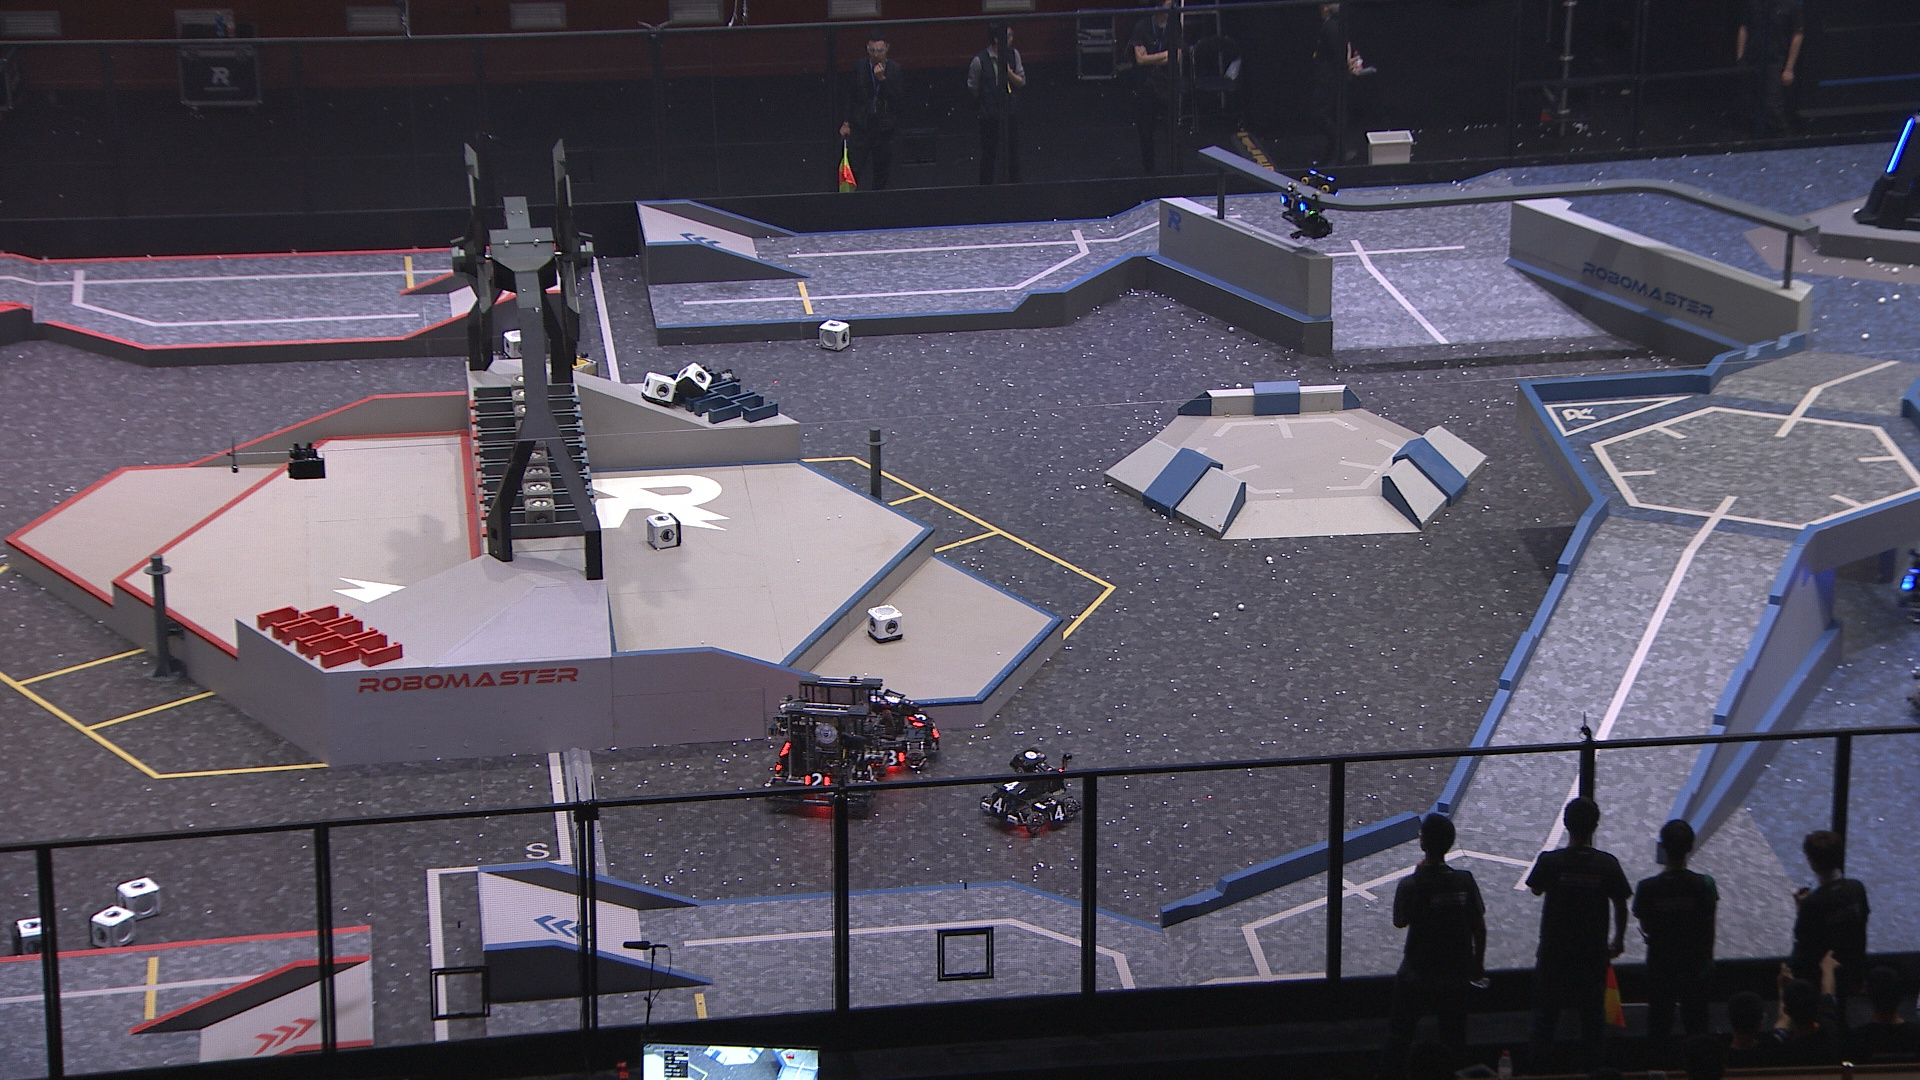armor: (1880, 117, 1920, 174), (1278, 193, 1309, 214), (1044, 800, 1072, 823), (802, 770, 833, 789), (1000, 779, 1027, 798), (907, 704, 930, 727), (989, 794, 1010, 818), (880, 746, 905, 766), (861, 757, 880, 782), (927, 719, 944, 742)
base: (1844, 115, 1920, 243)
car: (760, 666, 891, 814), (975, 738, 1083, 837), (856, 684, 944, 773), (1896, 524, 1920, 633)
watcher: (1273, 160, 1342, 240)
